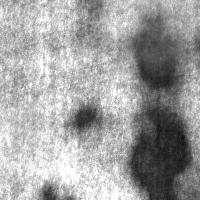patches: (94, 0, 200, 77), (129, 106, 190, 200), (131, 14, 179, 90), (0, 104, 51, 170), (71, 104, 98, 130)
